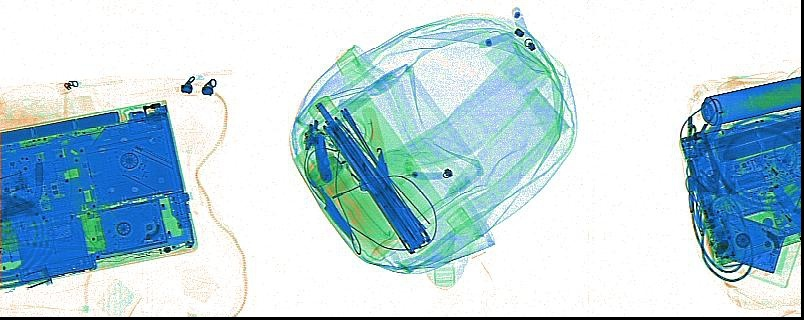knife: (292, 148, 355, 243), (359, 105, 398, 212), (690, 115, 723, 164), (311, 130, 334, 183)
pressure: (700, 73, 799, 128)
scissors: (700, 128, 735, 198)
